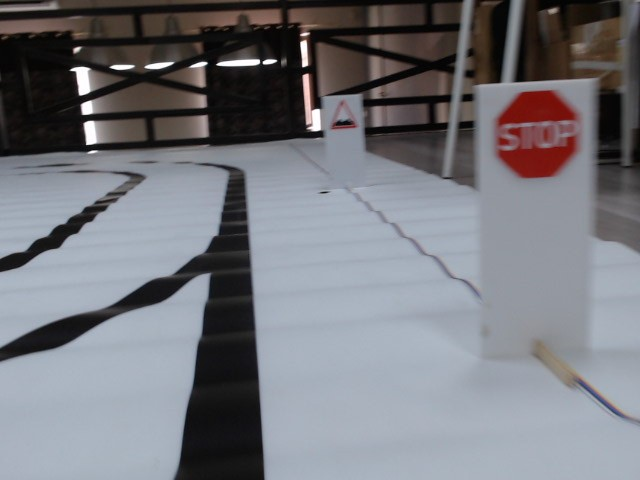Nerov: (329, 101, 360, 130)
Stop: (496, 92, 579, 177)
